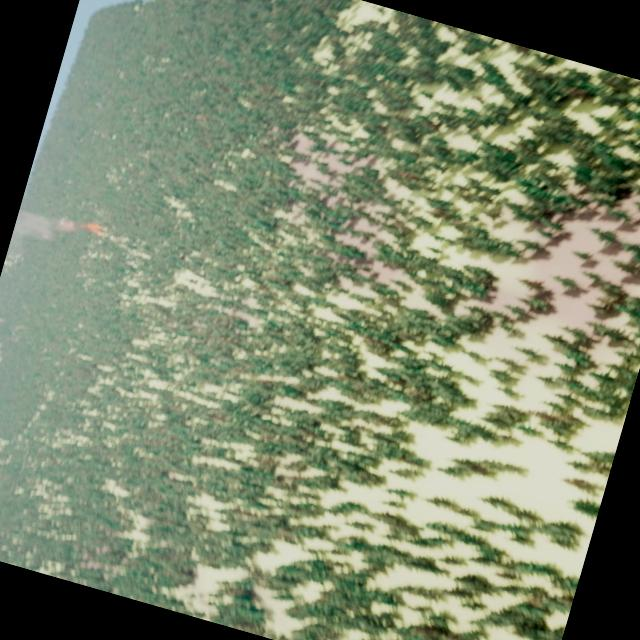fire: (76, 216, 108, 238)
smoke: (12, 200, 77, 249)
